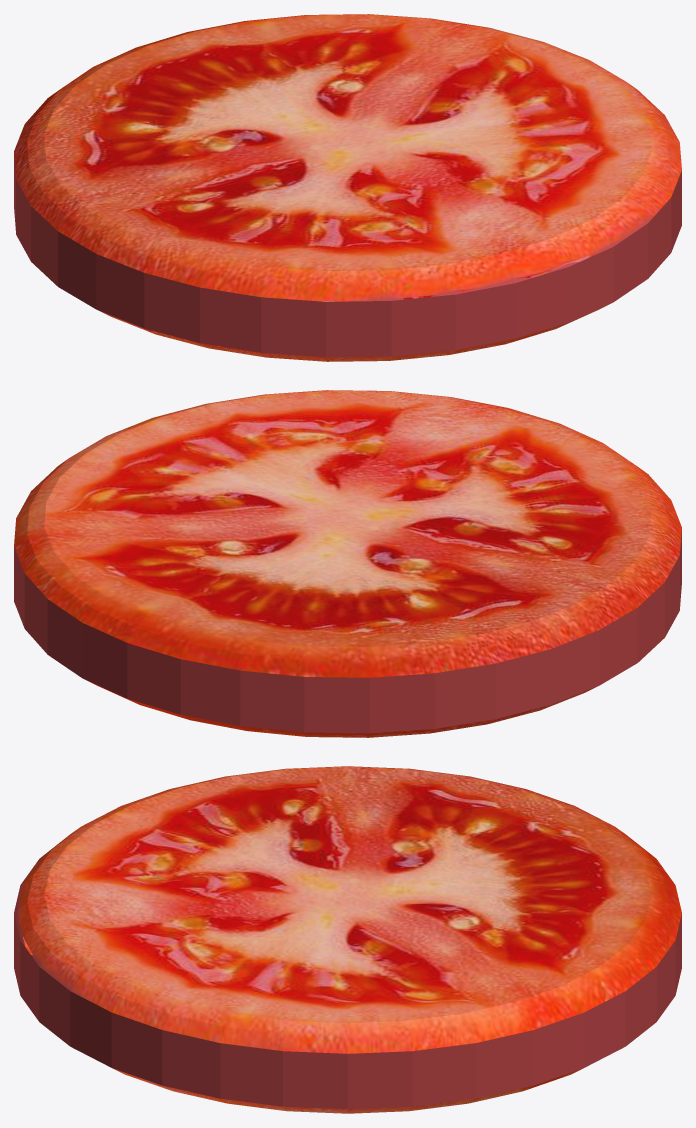
The model's file is tomato_material.fbx.
The picture shows the model from 3 angles, top to bottom: view 1: azimuth 30°, elevation 25°; view 2: azimuth 150°, elevation 25°; view 3: azimuth 270°, elevation 25°; orthographic projection.
Visible parts, largest first — view 1: Cylinder; view 2: Cylinder; view 3: Cylinder.
Part boxes in pixels (box(x1,y1,x2,y2)): Cylinder: box(14, 14, 681, 361); Cylinder: box(14, 390, 681, 737); Cylinder: box(14, 766, 681, 1113).
Bounding box in the file's own units: 200 × 30.75 × 200.
Materials: 1 (1 with a texture image).
